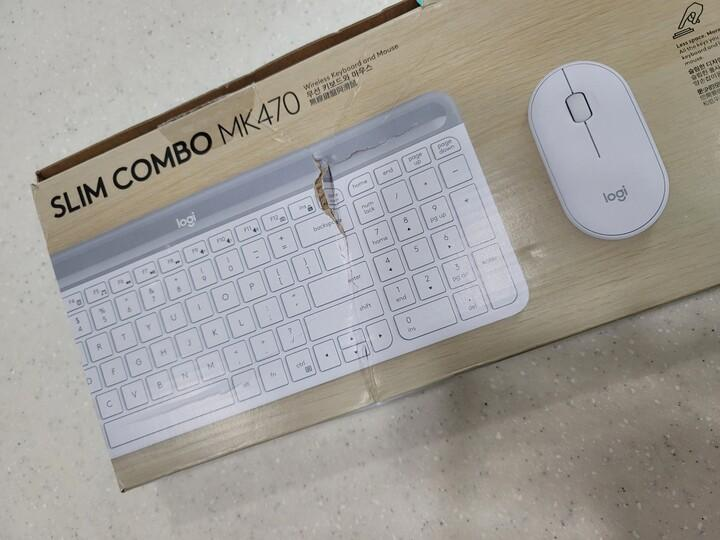keyboard: (55, 90, 530, 487)
mouse: (526, 59, 670, 240)
